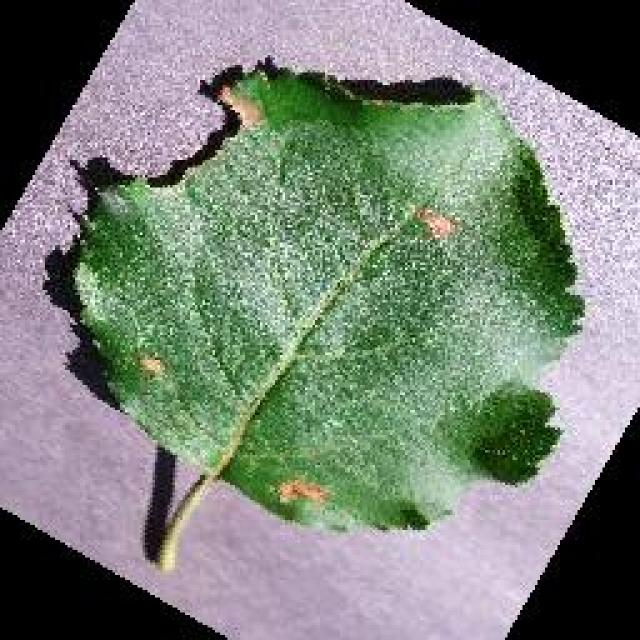apple healthy: (62, 52, 588, 568)
